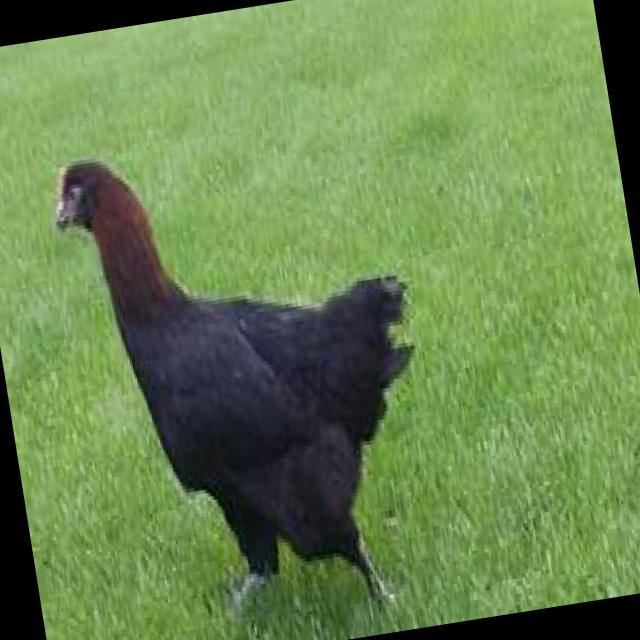animal: (31, 80, 486, 635)
